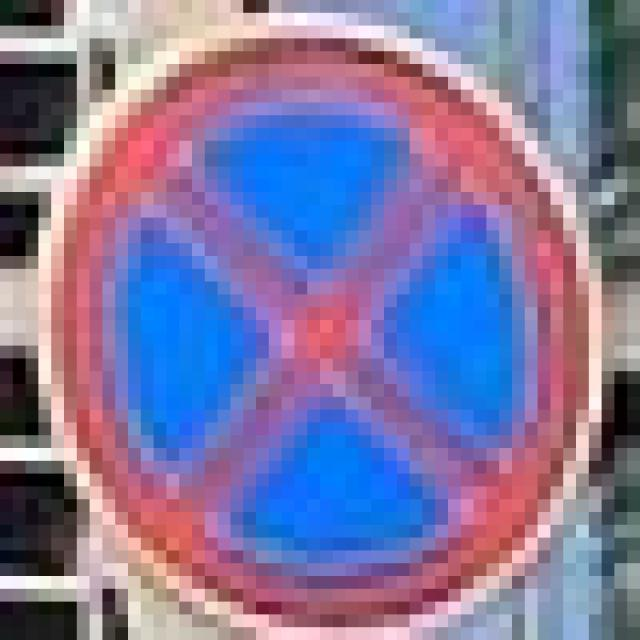no stopping or standing: (38, 26, 575, 602)
